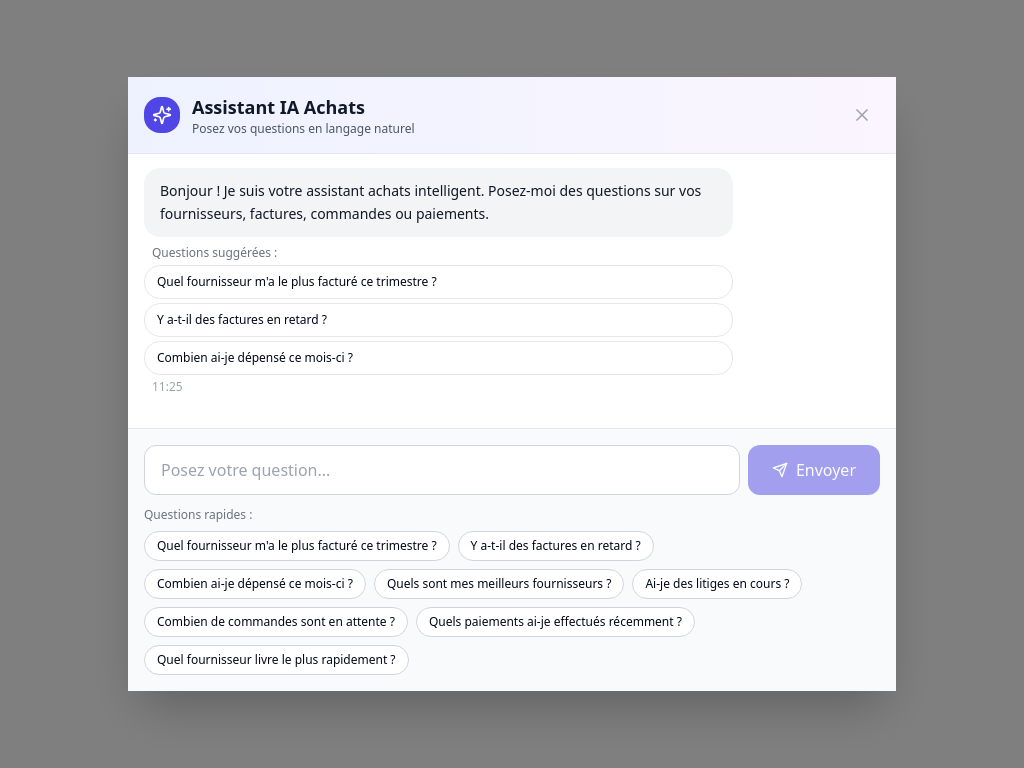
Test: PurchaseAIAssistant › should show loading state while waiting for response
Step 1. Type "Question" into the field with placeholder "Posez votre question..." → (442, 470), box [144, 445, 740, 495]
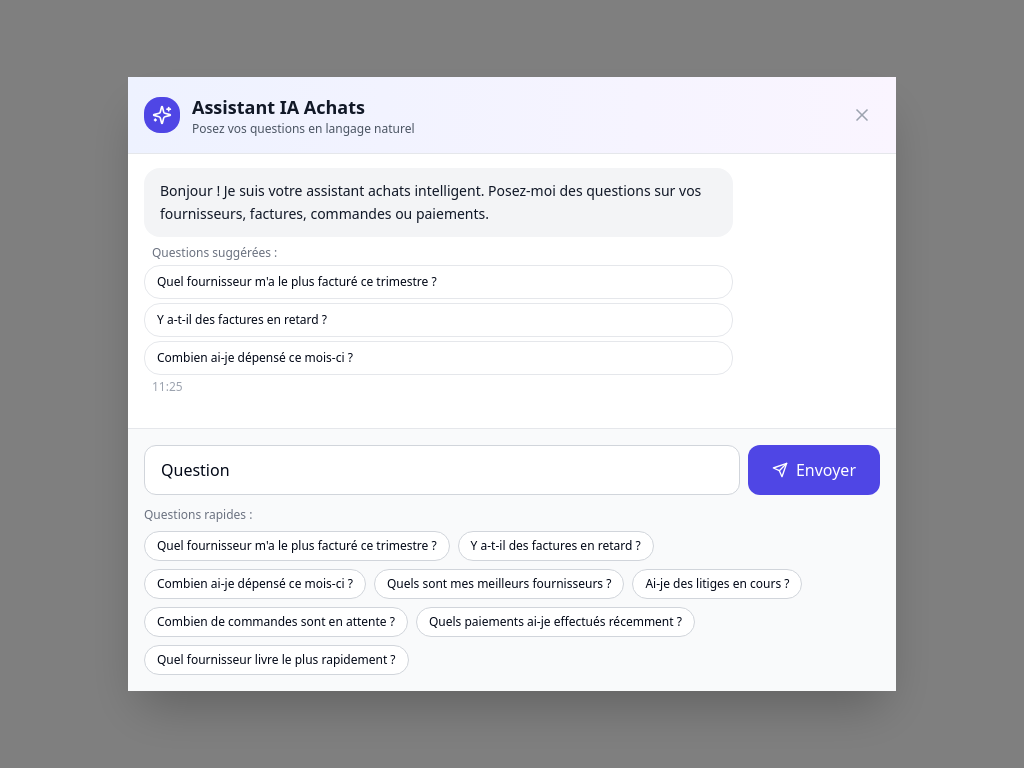
Step 2. Click the button "Envoyer" → (814, 470), box [748, 445, 880, 495]
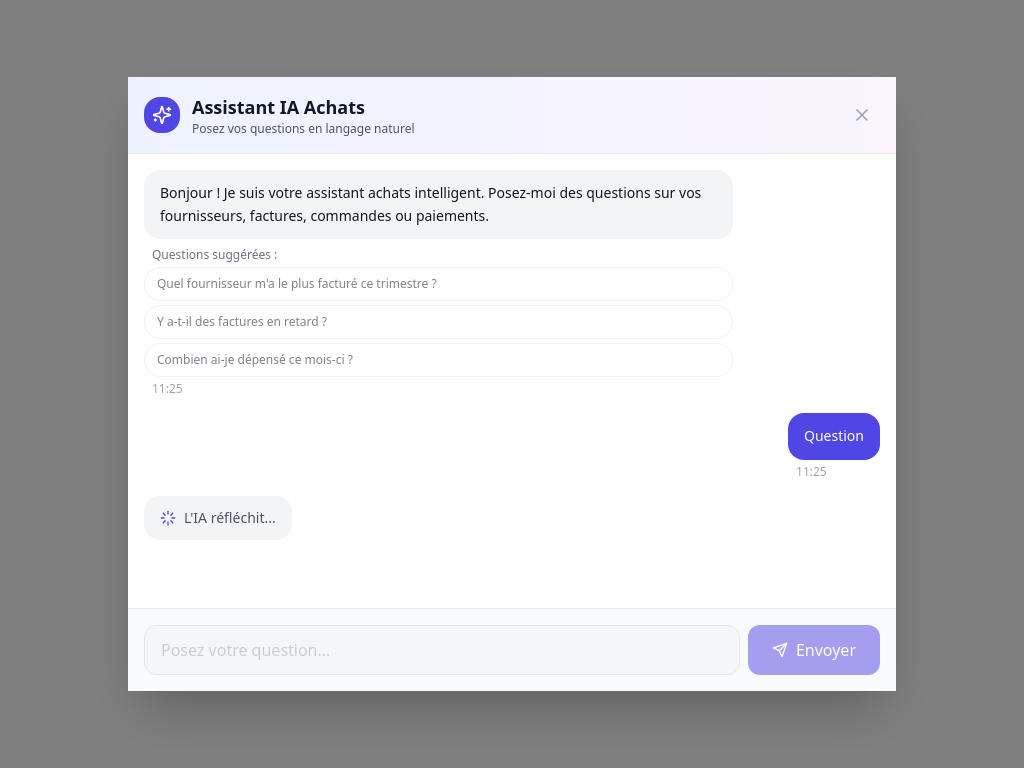
Check: the text "L'IA réfléchit..." is shown, box [184, 508, 276, 528]
